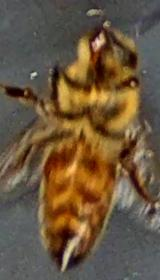varroa_mite: (30, 147, 80, 181)
